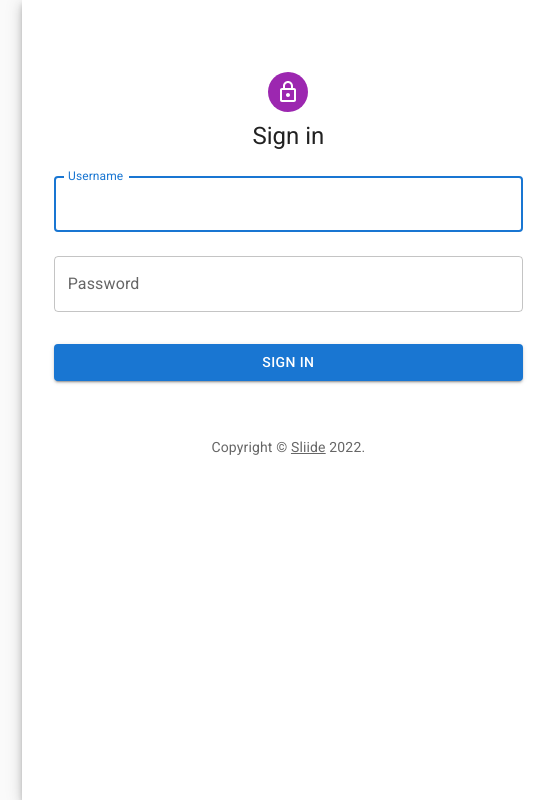
Verify login feature › Verify that it is not possible to login with wrong username and correct password and verify helper text for username input field.
Type "pa55word" into the field with id "username".
click(289, 204); type("pa55word")  # box [54,176,523,232]
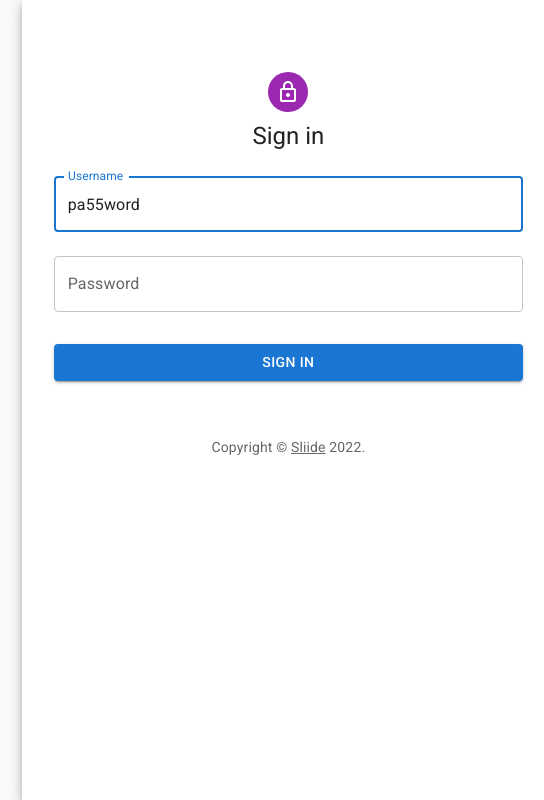
Type "pa55word" into the password field labelled "Password".
click(289, 284); type("pa55word")  # box [54,256,523,312]
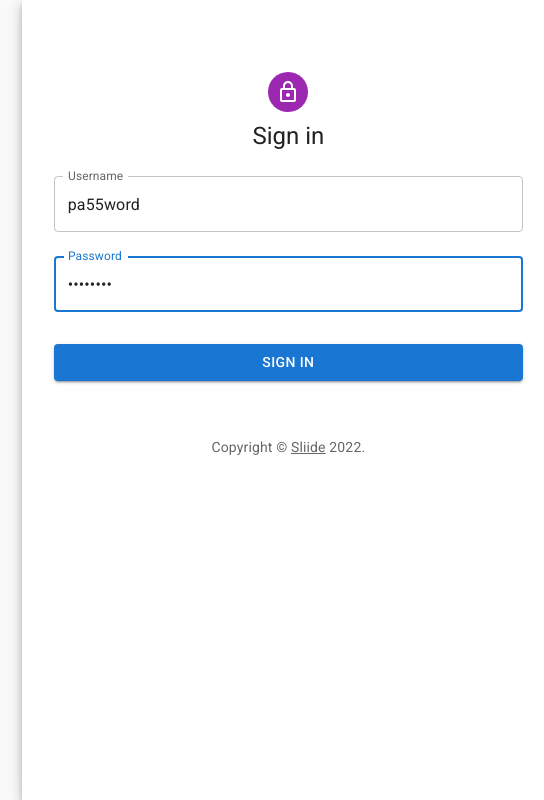
Click the button with id "login_button".
click(289, 363)  # box [54,344,523,381]
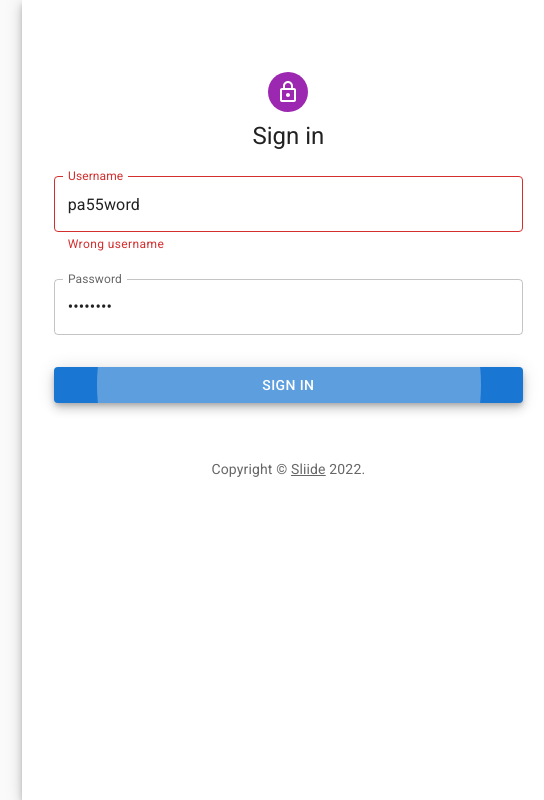
Check: the text with id "username-helper-text" reads "Wrong username", box [68,237,165,251]
